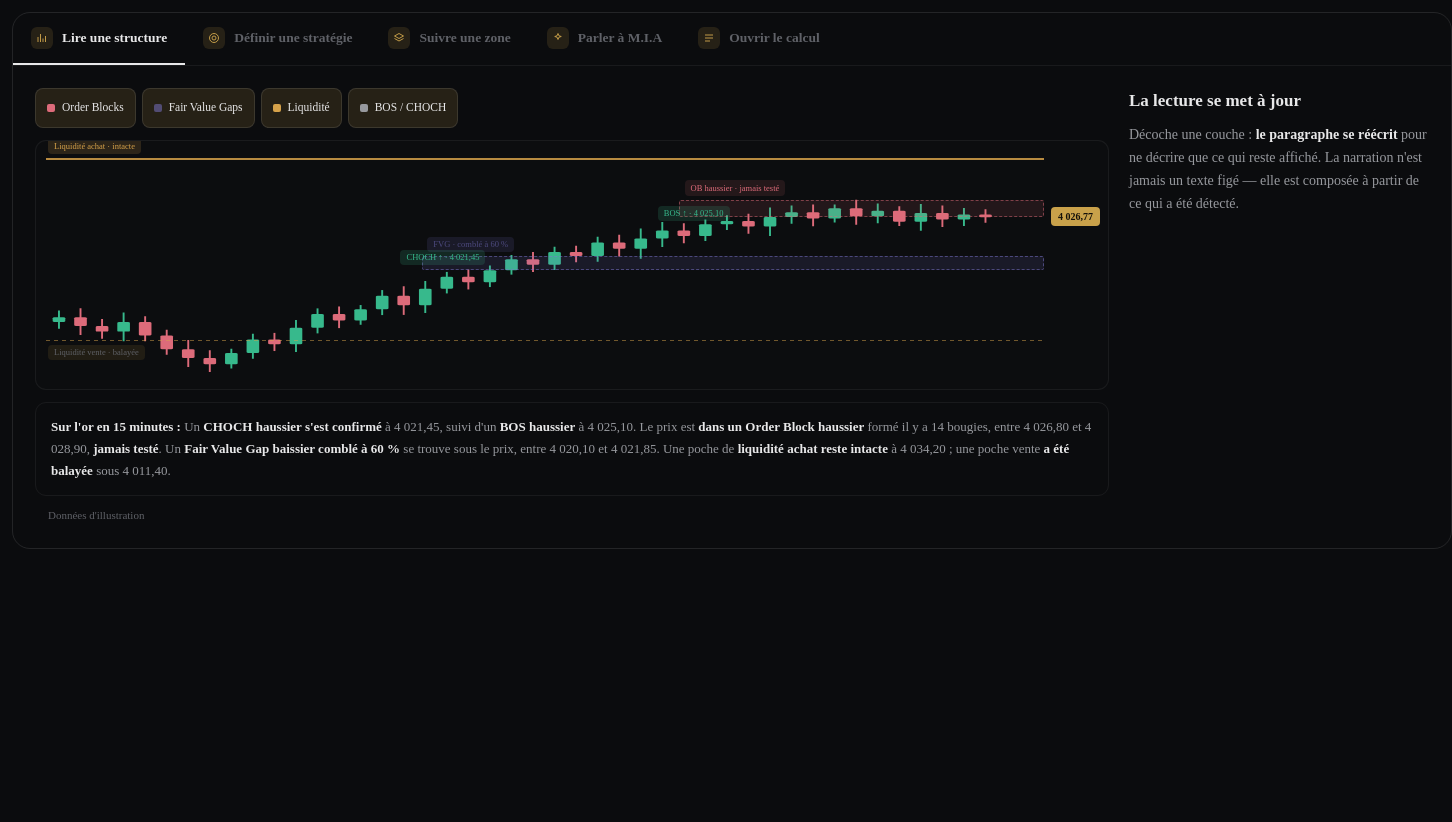
LP-1 home — the M.I.A tab talks to the real agent › a validated view action really moves the chart layers
Click the tab "Parler à M.I.A".
click(605, 39)  # box [529,13,680,65]
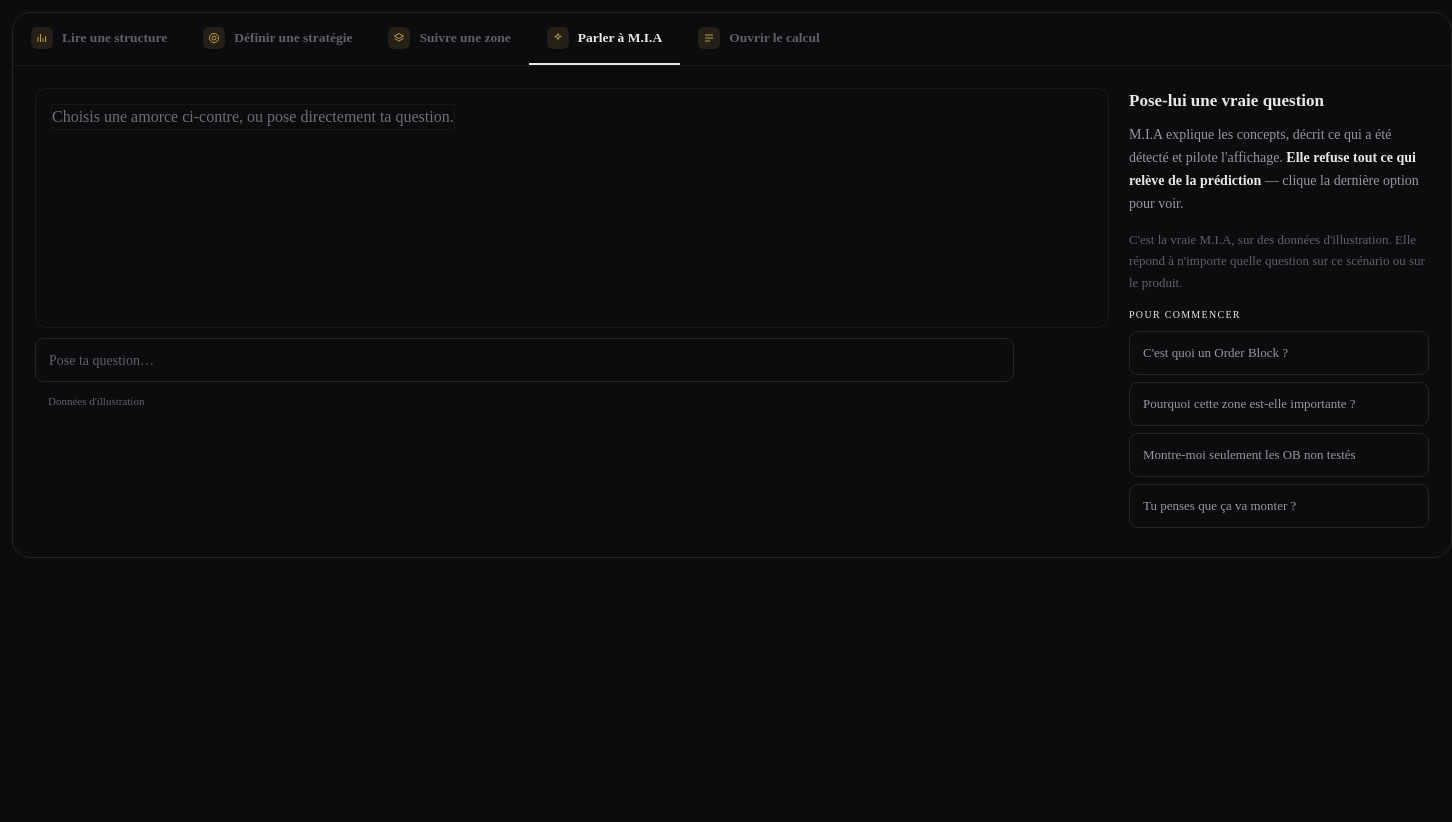
Click the button "Montre-moi seulement les OB non testés".
click(1279, 455)  # box [1129,433,1429,477]
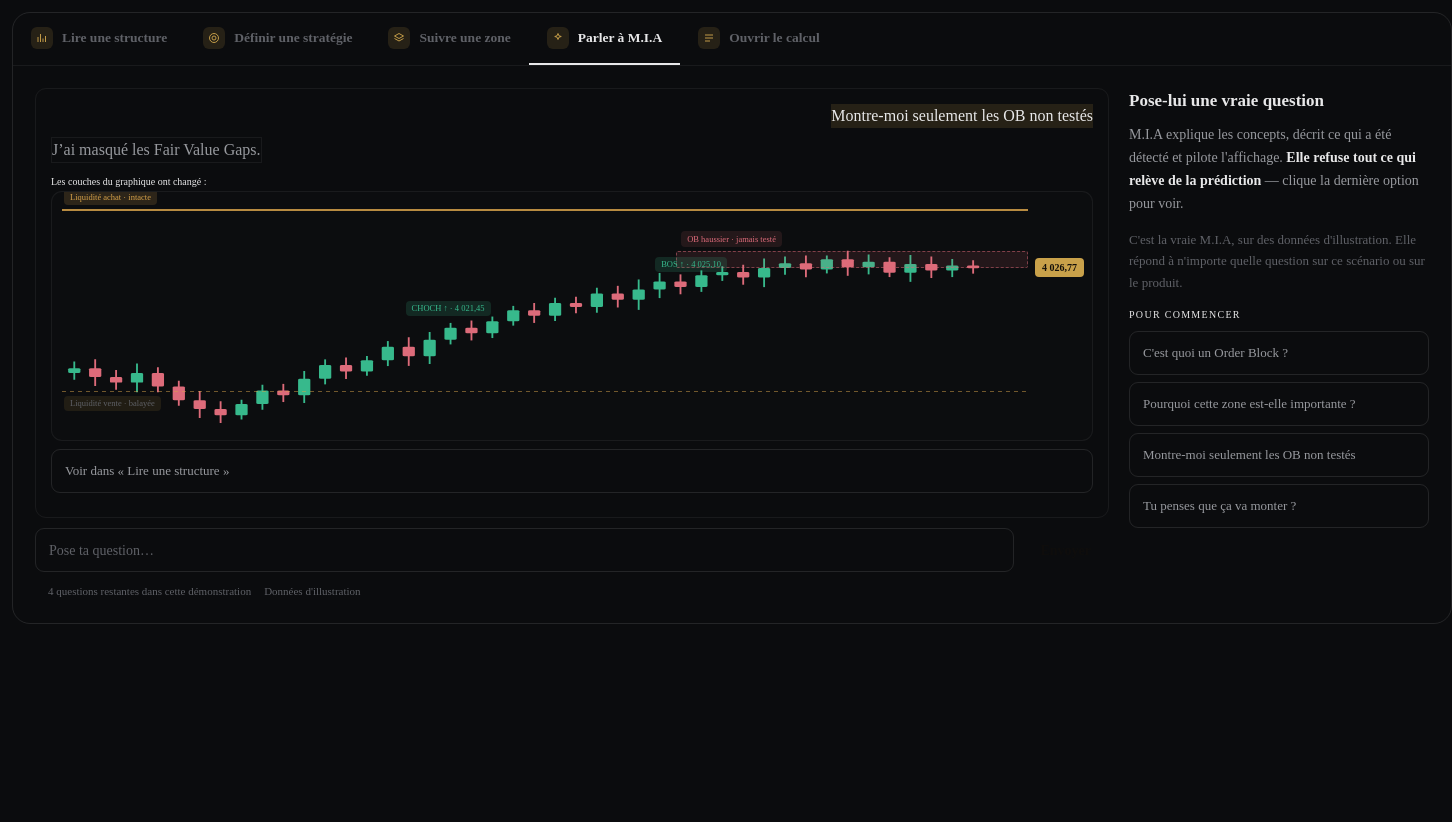
expect the text "J’ai masqué les Fair Value Gaps." is shown: met, box [51,137,262,163]
Click the tab "Lire une structure".
click(99, 39)  # box [13,13,185,65]
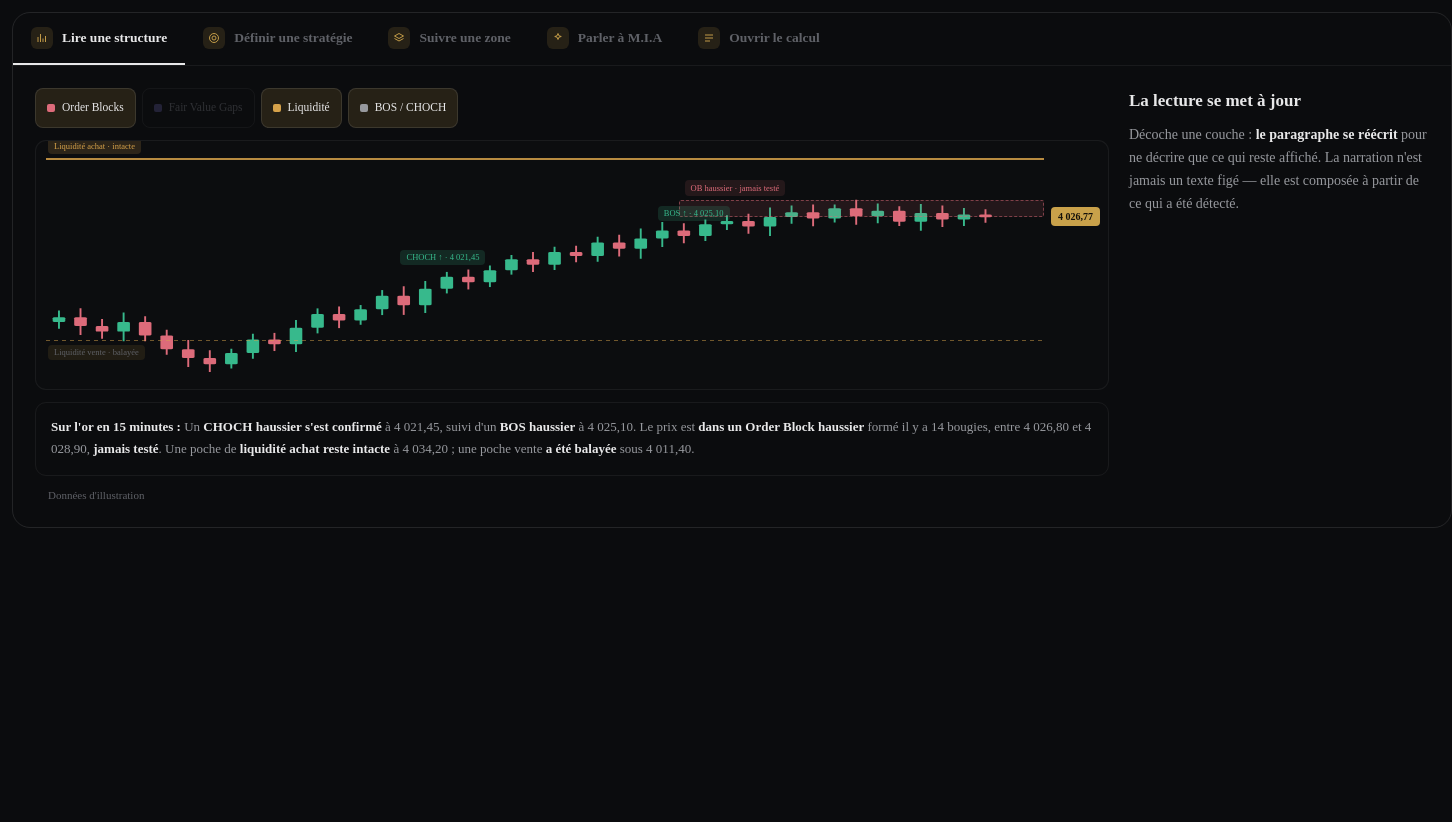
expect the text "Fair Value Gap baissier comblé" is not shown: met
expect the text "dans un Order Block haussier" is shown: met, box [698,419,864,434]
